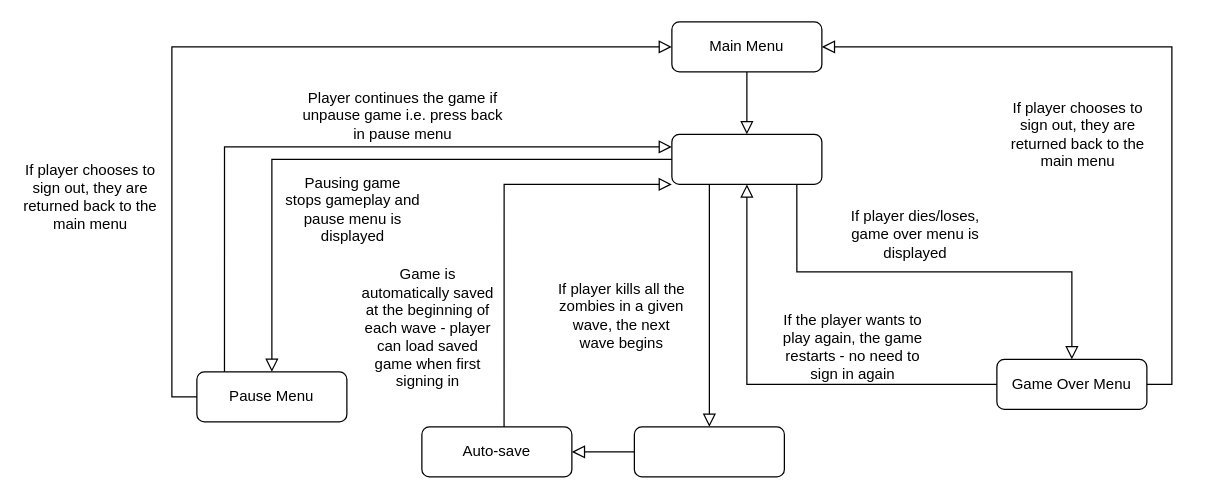
Some shapes in this 1206 by 499 pixel diagram are drawn without their labels. Each missing label, with the centre of its shape:
Next Wave: [708,451]
Play Game: [746,158]
